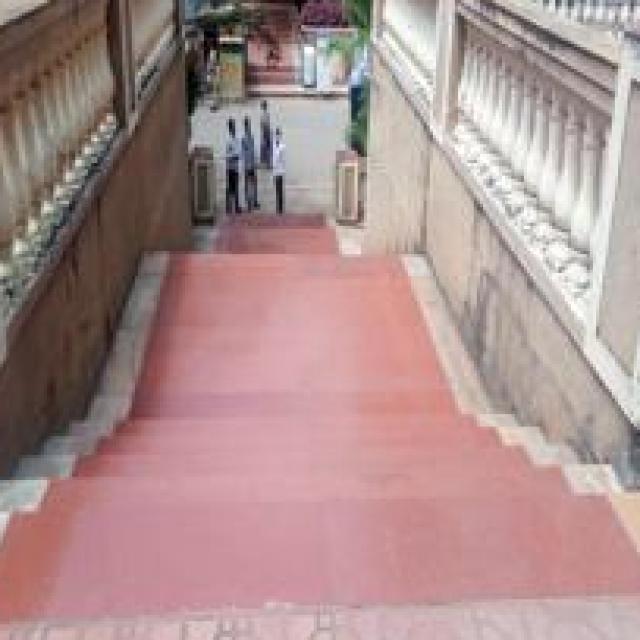downstair: (70, 390, 516, 591)
